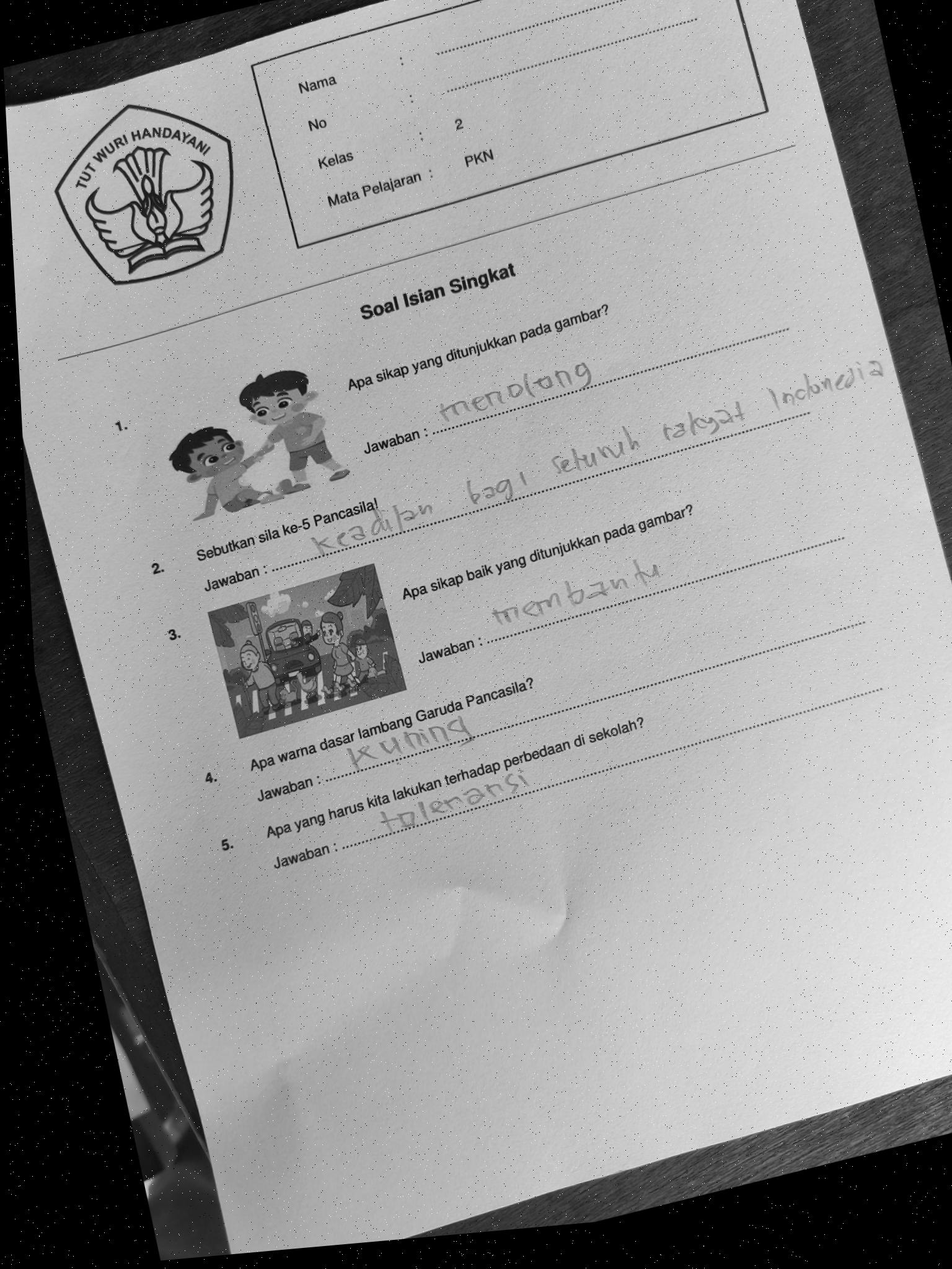soal-1: (94, 211, 825, 547)
soal-2: (136, 329, 870, 616)
soal-3: (157, 422, 886, 755)
soal-4: (194, 558, 902, 828)
soal-5: (212, 632, 911, 897)
